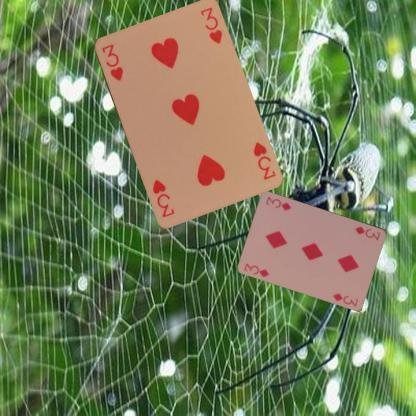3d: (352, 223, 382, 242), (242, 260, 271, 278)
3h: (250, 139, 277, 181), (99, 41, 124, 82)
